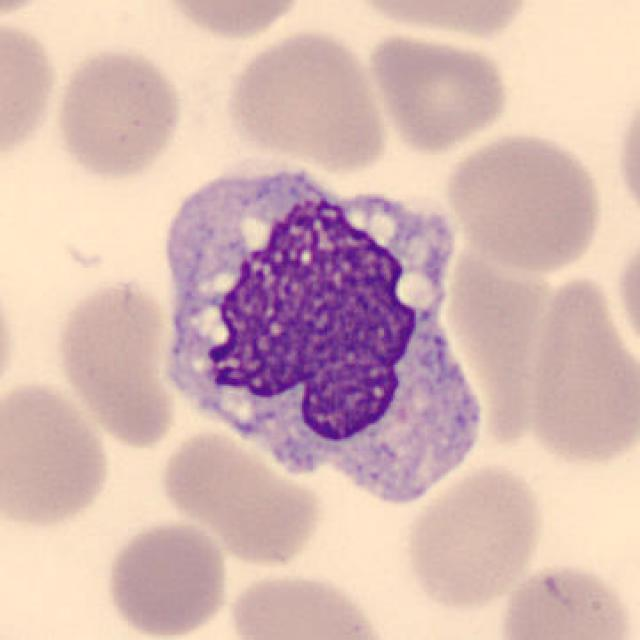Monocyte: (146, 148, 490, 506)
RBC: (220, 26, 393, 171), (155, 425, 325, 569), (441, 127, 606, 273), (521, 268, 640, 469), (52, 275, 183, 450), (400, 460, 546, 612), (362, 27, 516, 155), (51, 44, 185, 180), (0, 376, 116, 532), (101, 516, 232, 640), (227, 567, 391, 640), (494, 557, 636, 640), (0, 12, 62, 168), (341, 0, 535, 42), (155, 0, 313, 42), (611, 75, 640, 234), (611, 220, 640, 366), (0, 268, 21, 418), (0, 0, 64, 19)
